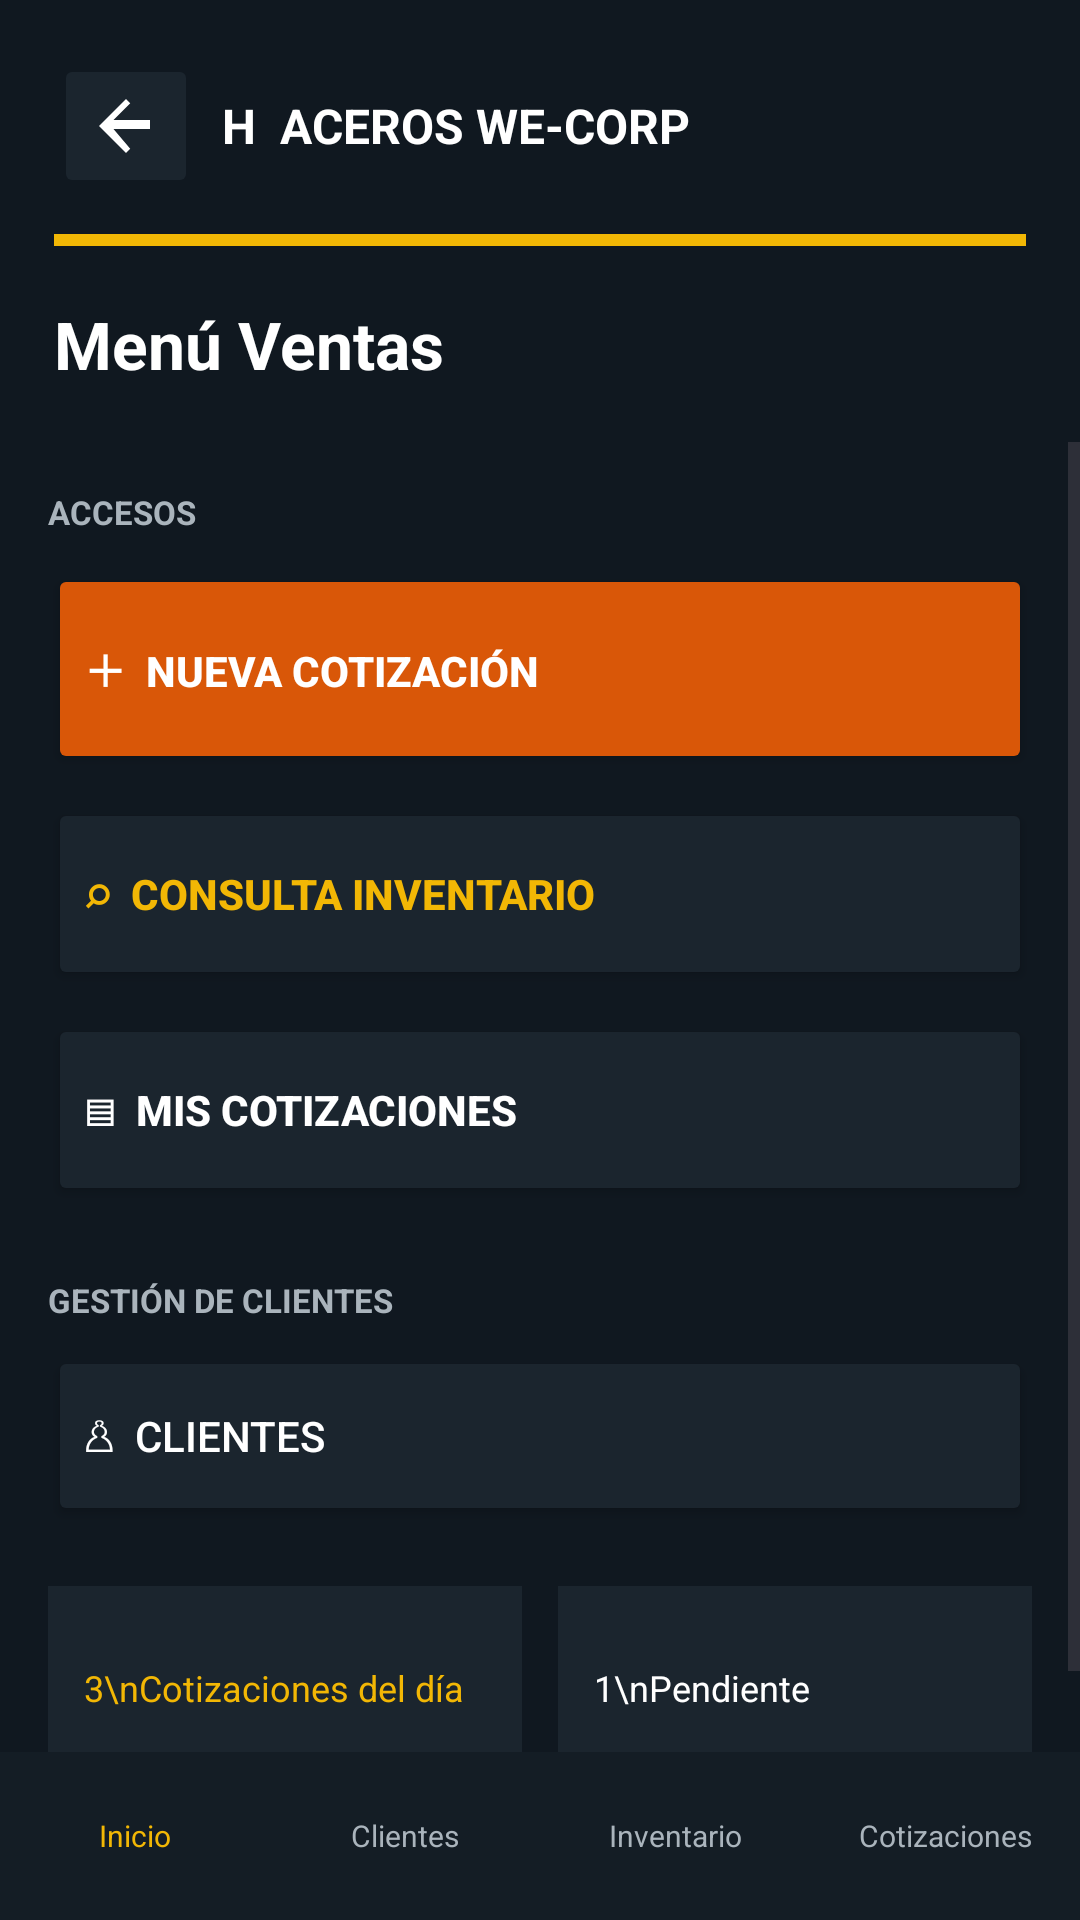

Icon bounding boxes for this 1080×1920 phone screenshot, format Rect(x1, y1, x2, y2):
Volver: Rect(66, 72, 186, 180)
